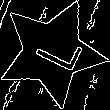L_NW: (22, 27, 82, 78)
